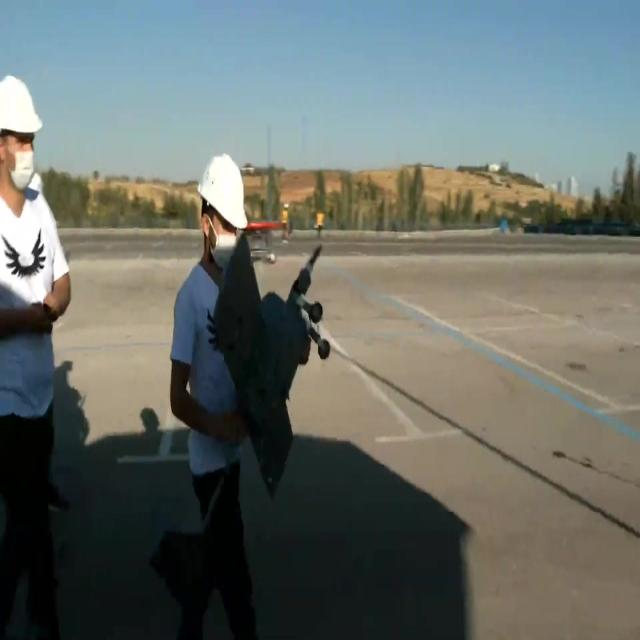iha: (153, 226, 330, 640)
